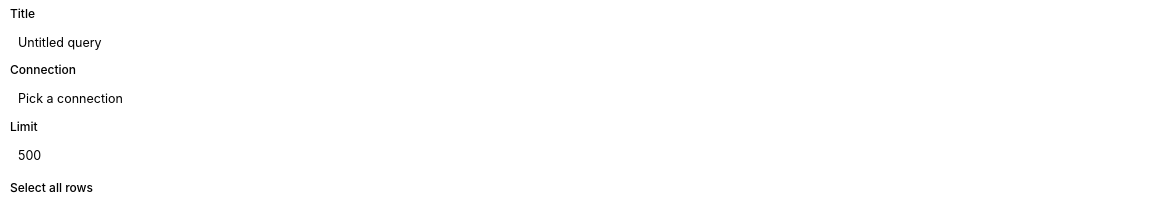
Test: QuerySection › shows the database logo next to each connection option
What coordinates should you click on to do the following:
click the button with test id "query-connection-select"
I would click on:
 (70, 98)
Its box is [10,85,1142,113].
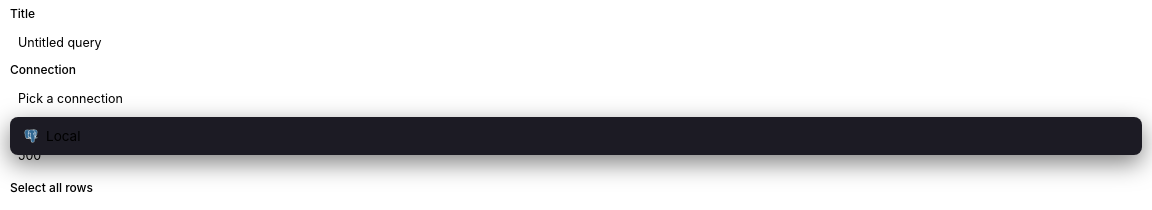
Result: the picture with class "mdbc-db-kind-logo" is shown at [24,129,38,143]
